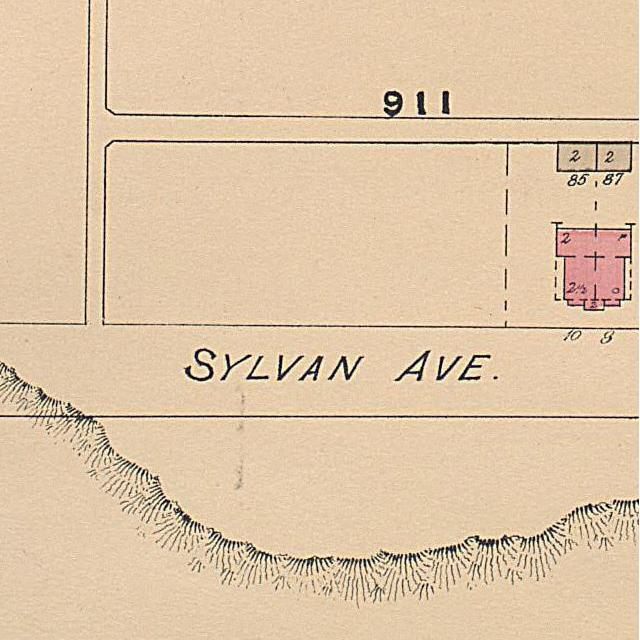building-footprints: (557, 229, 631, 310), (558, 142, 597, 172), (597, 142, 631, 171)
